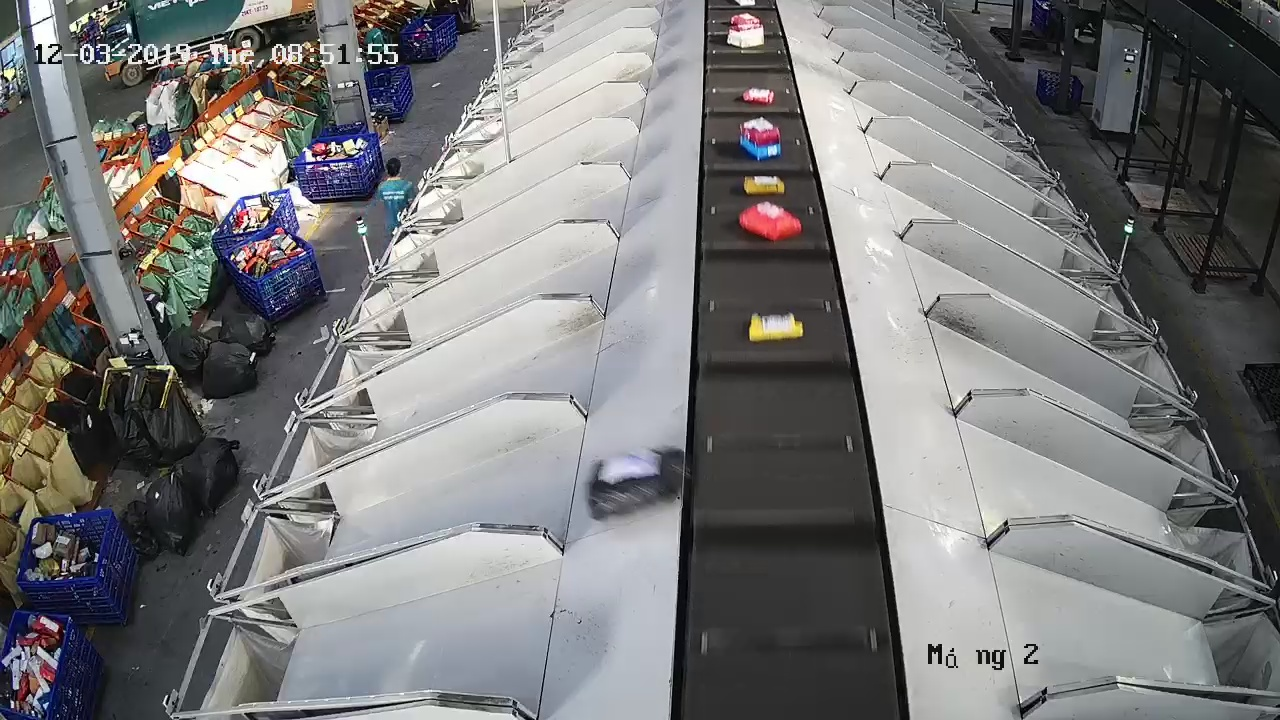parcel: (587, 445, 685, 521), (737, 200, 804, 243), (738, 115, 784, 162), (747, 309, 805, 343), (742, 173, 787, 198)
